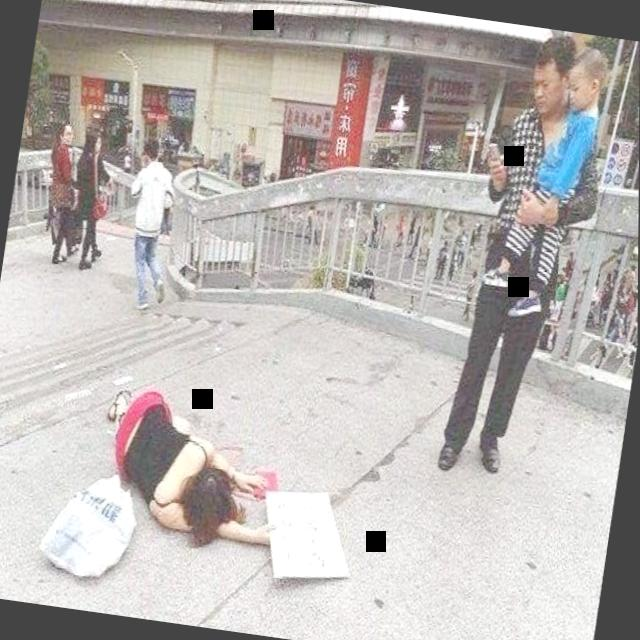Fall-Detected: (83, 359, 309, 572)
